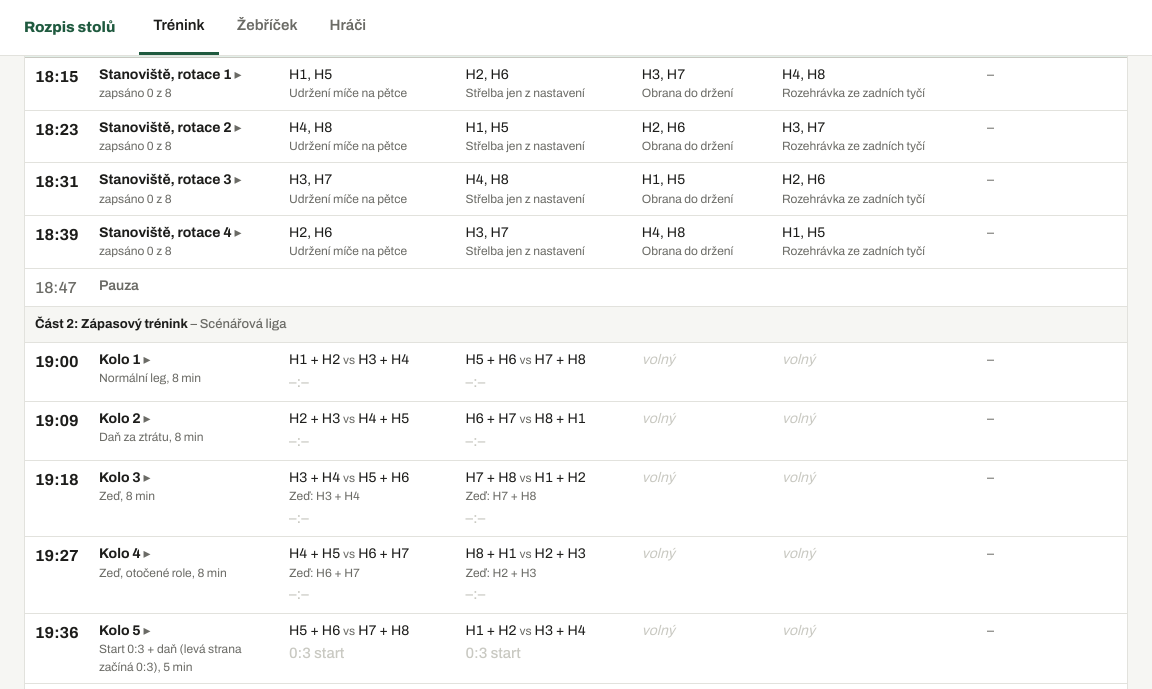
Test: tabulka tréninku › skutečné časy, rozbalení kola a zápis skóre
(page scrolled)
Expected: the text "19:00" is shown, left=25, top=342, right=89, bottom=401
Expected: the row "Kolo 1" shows "H1 + H2 vs H3 + H4", left=25, top=342, right=1127, bottom=401
Click the button "Kolo 1".
click(125, 360)  # box left=99, top=350, right=151, bottom=370
(page scrolled)
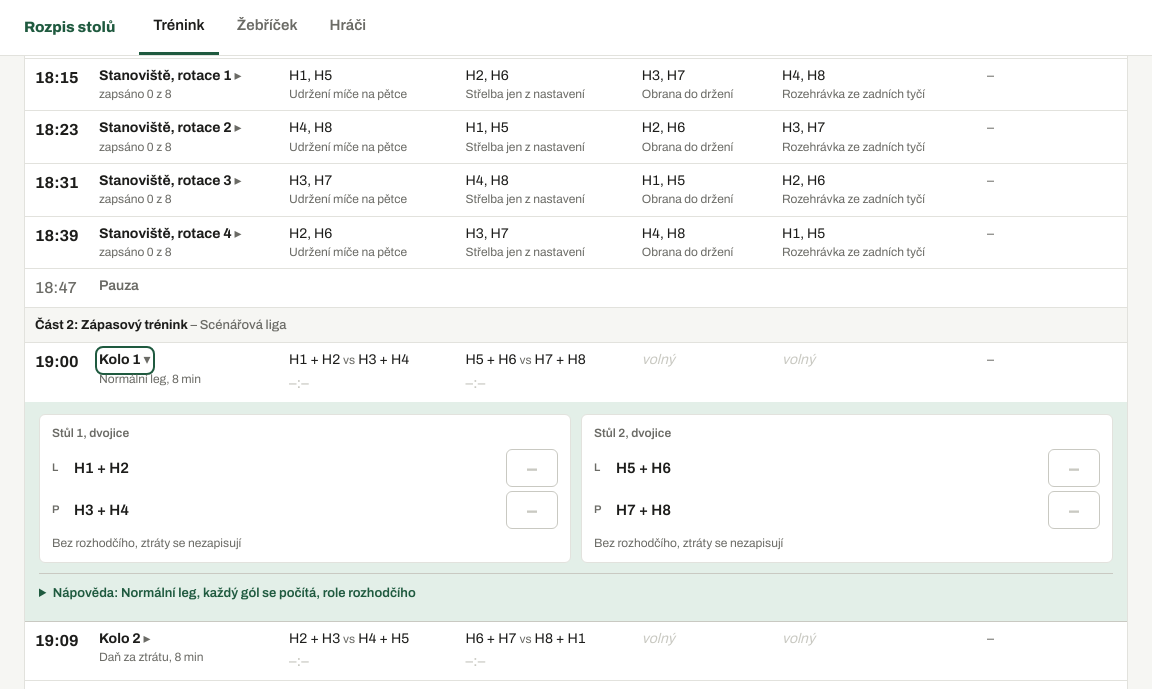
Type "6" into the number field named "Kolo 1, stůl 1: góly vlevo".
click(532, 468); type("6")  # box left=506, top=449, right=558, bottom=487
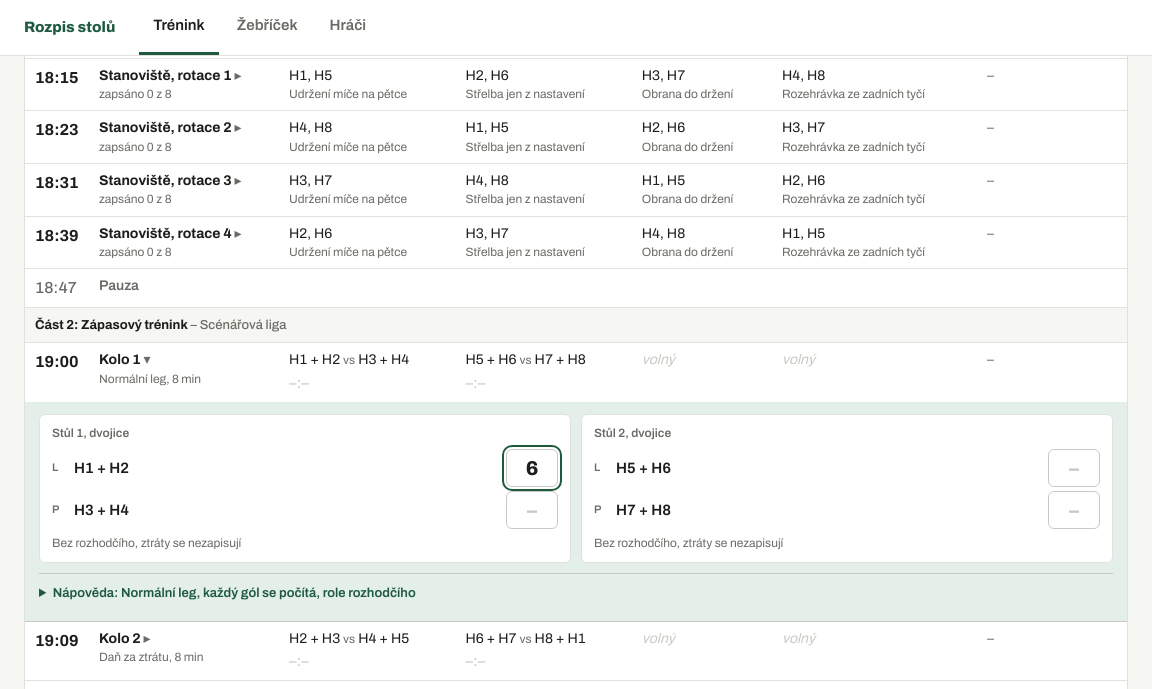
Type "2" into the number field named "Kolo 1, stůl 1: góly vpravo".
click(532, 510); type("2")  # box left=506, top=491, right=558, bottom=529
(page scrolled)
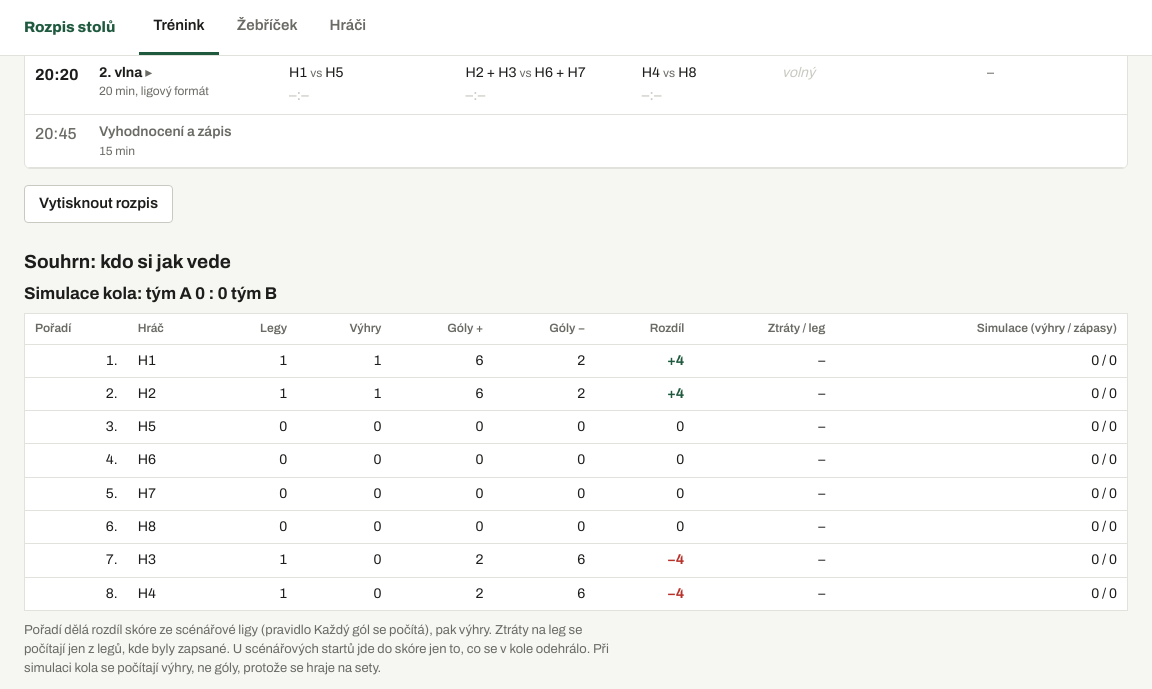
Expected: the row "1. H1 1 1 6 2 +4 – 0 / 0" is shown, left=24, top=344, right=1128, bottom=377
